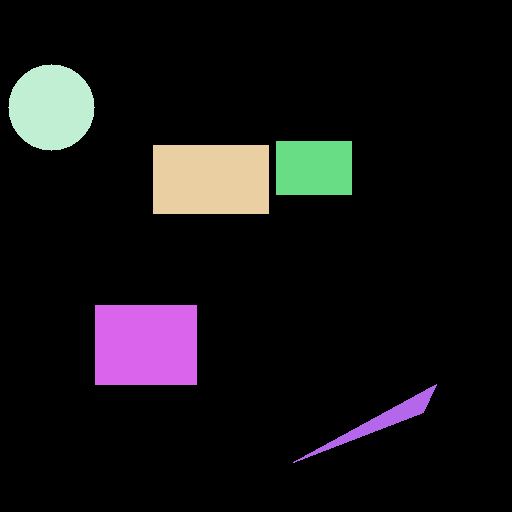circle: (8, 64, 94, 150)
rectangle: (95, 305, 196, 384), (153, 145, 268, 213), (276, 141, 351, 194)
triangle: (293, 384, 436, 462)
